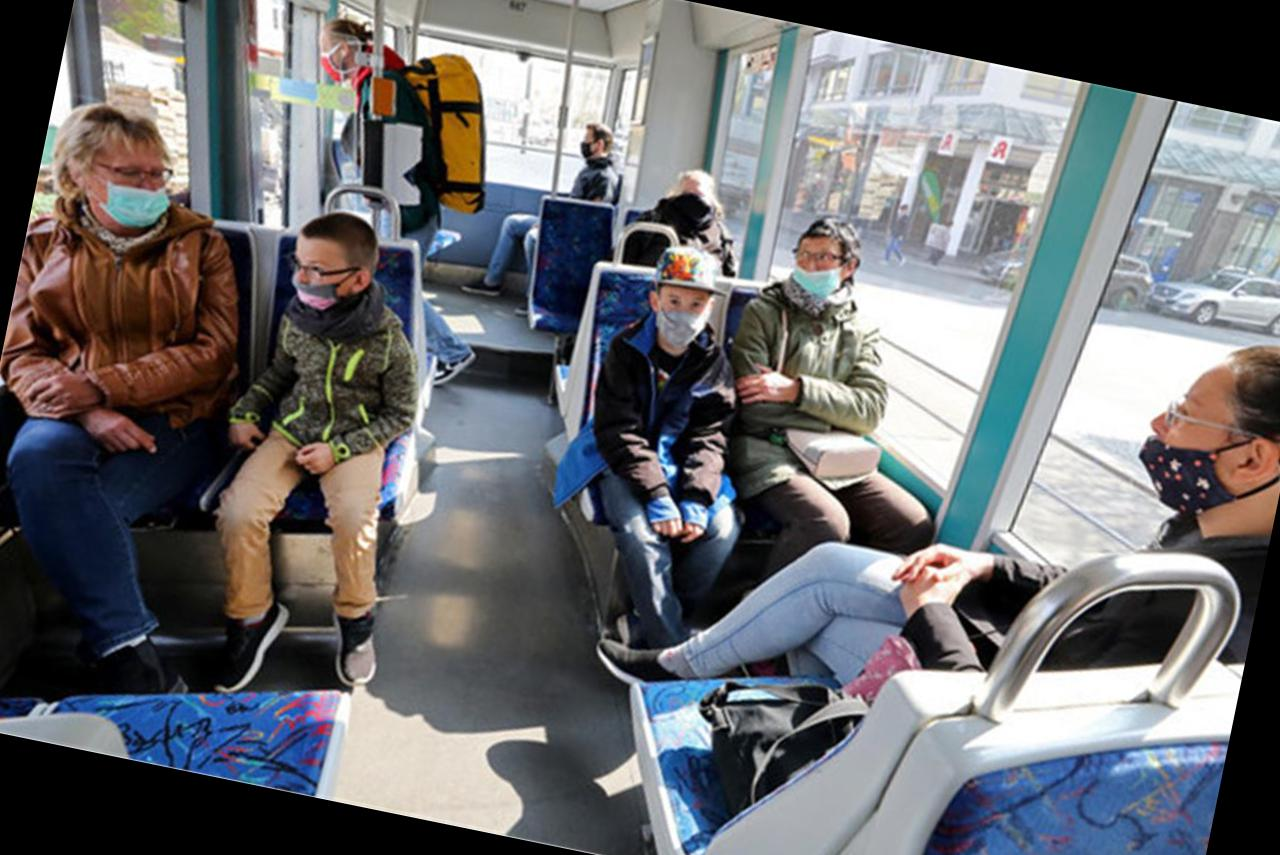mask_weared_incorrect: (1132, 370, 1257, 517), (282, 247, 354, 314)
with_mask: (89, 157, 186, 238), (649, 291, 714, 352), (786, 241, 847, 295), (304, 30, 358, 85), (666, 175, 720, 227), (573, 128, 606, 164)
